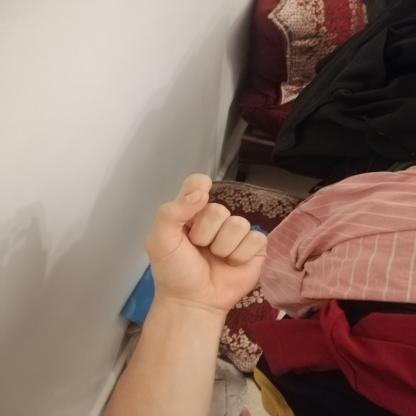FAA: (126, 162, 283, 319)
